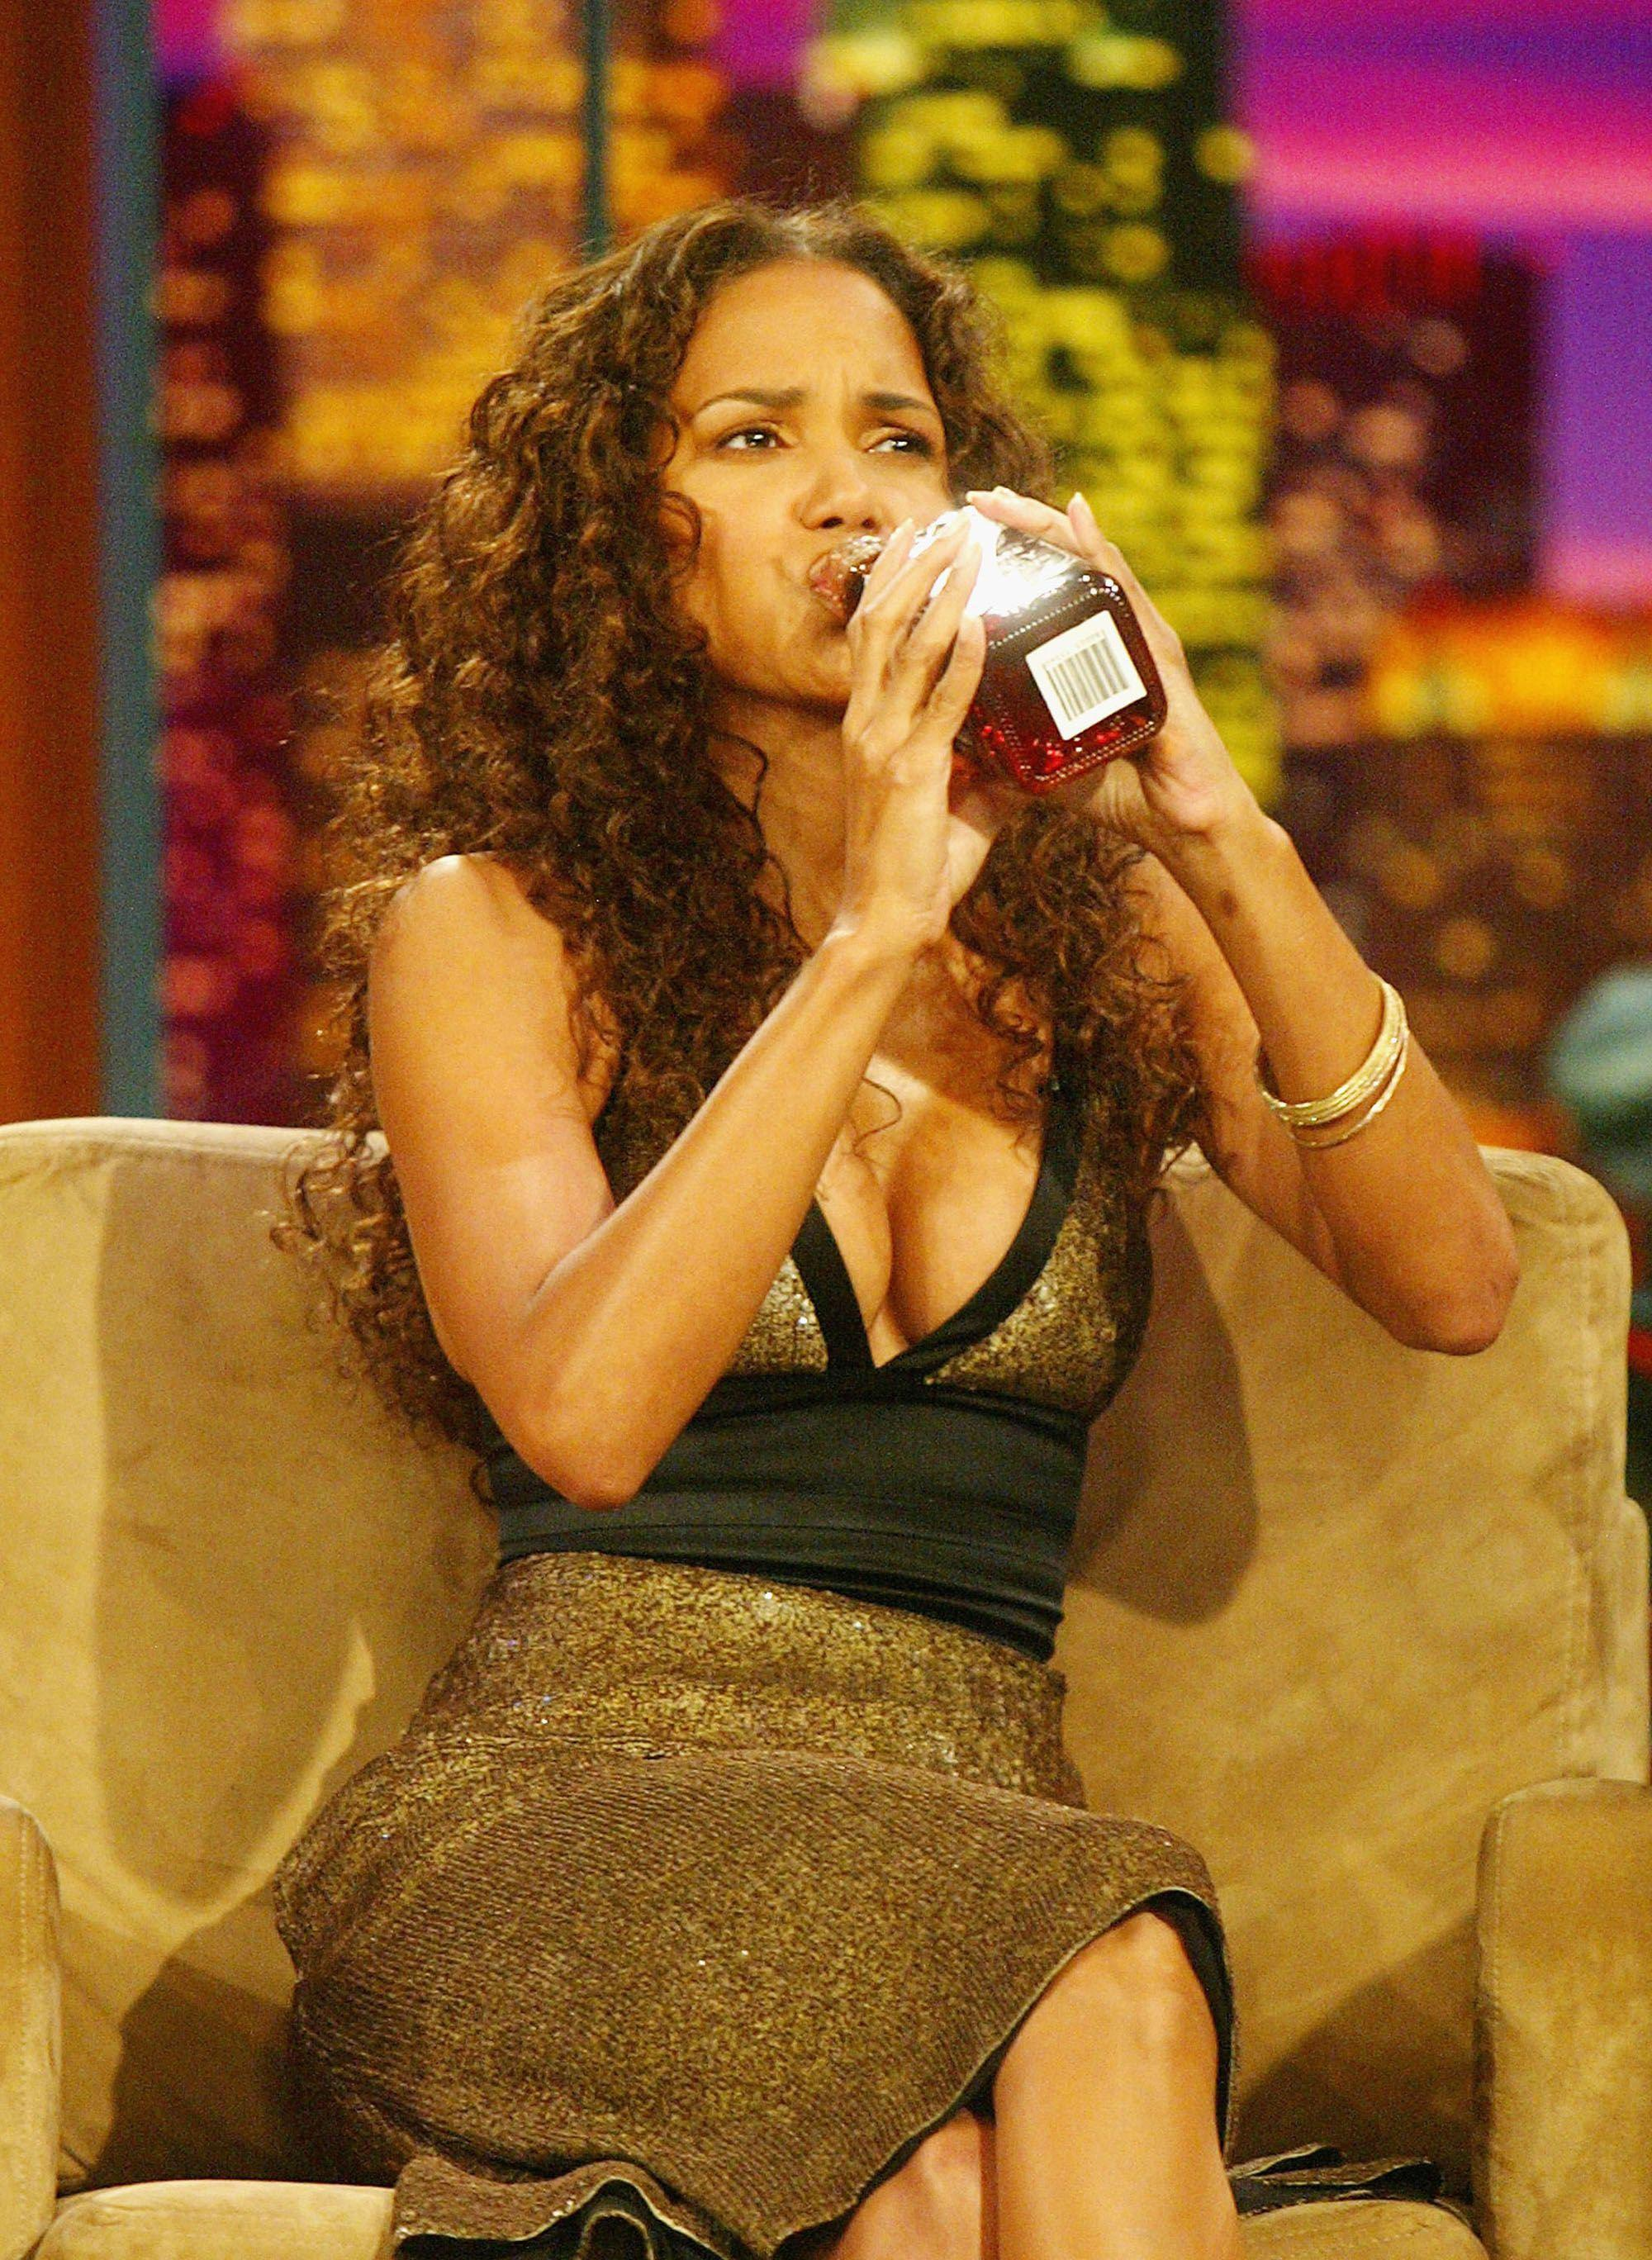Drunk: (687, 286, 935, 695)
